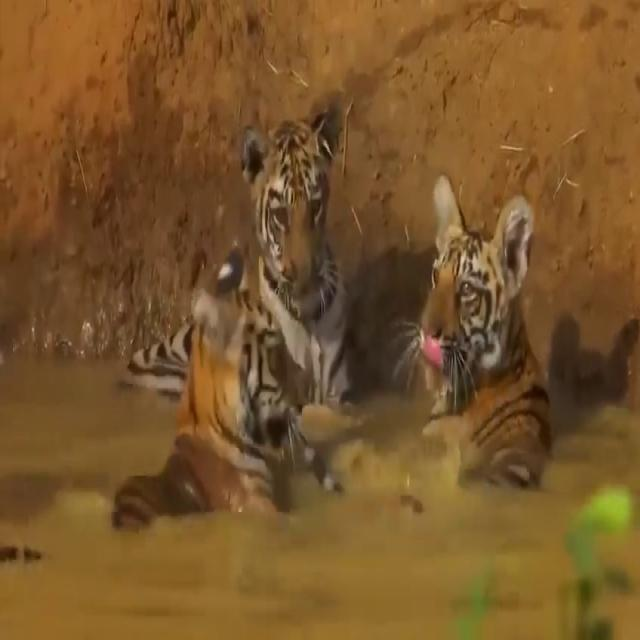tiger: (0, 270, 310, 566), (117, 103, 356, 414), (392, 138, 557, 496)
